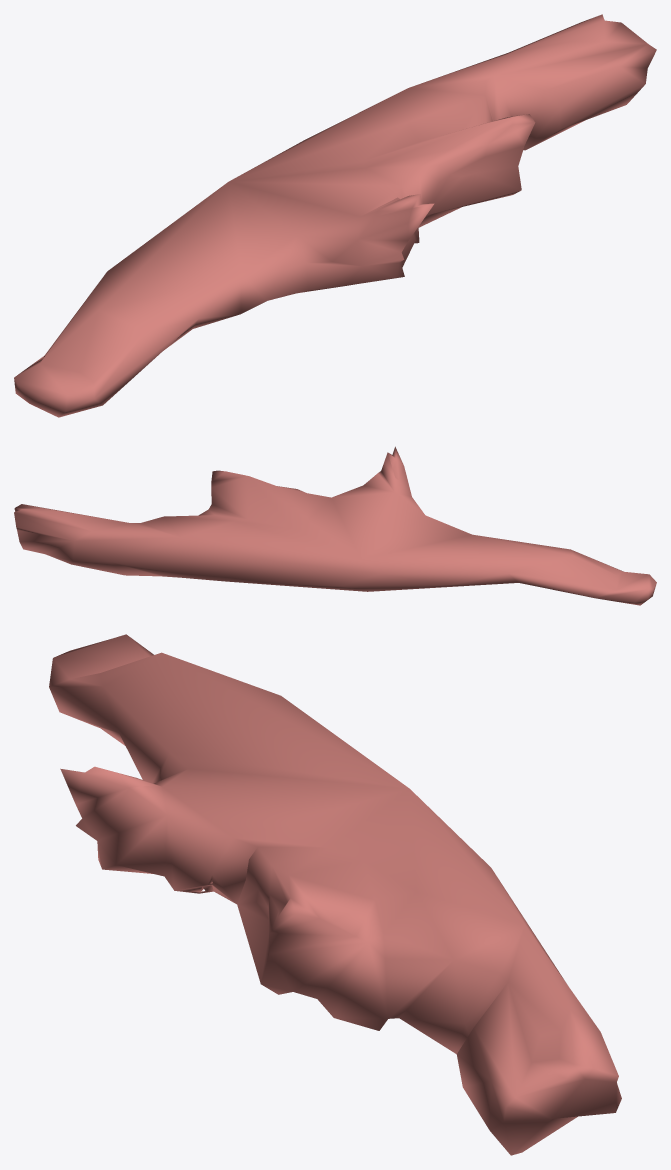
The picture shows the model from 3 angles, top to bottom: view 1: azimuth 30°, elevation 25°; view 2: azimuth 150°, elevation 25°; view 3: azimuth 270°, elevation 25°; orthographic projection. The views are drawn at different scales.
Visible parts, largest first — view 1: ZA_8af89a2e84fcd197; view 2: ZA_8af89a2e84fcd197; view 3: ZA_8af89a2e84fcd197.
Boxes of the visible parts, x1,y1,x2,y2 form: ZA_8af89a2e84fcd197: [14, 14, 656, 417]; ZA_8af89a2e84fcd197: [14, 446, 656, 605]; ZA_8af89a2e84fcd197: [49, 634, 621, 1155].
Size of the model in its own units: 0.0482 by 0.00745 by 0.0224.
